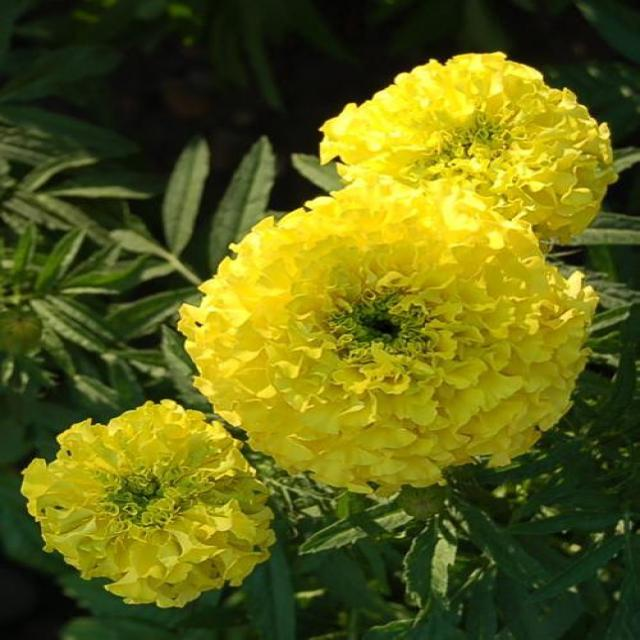marigold: (141, 24, 630, 625)
